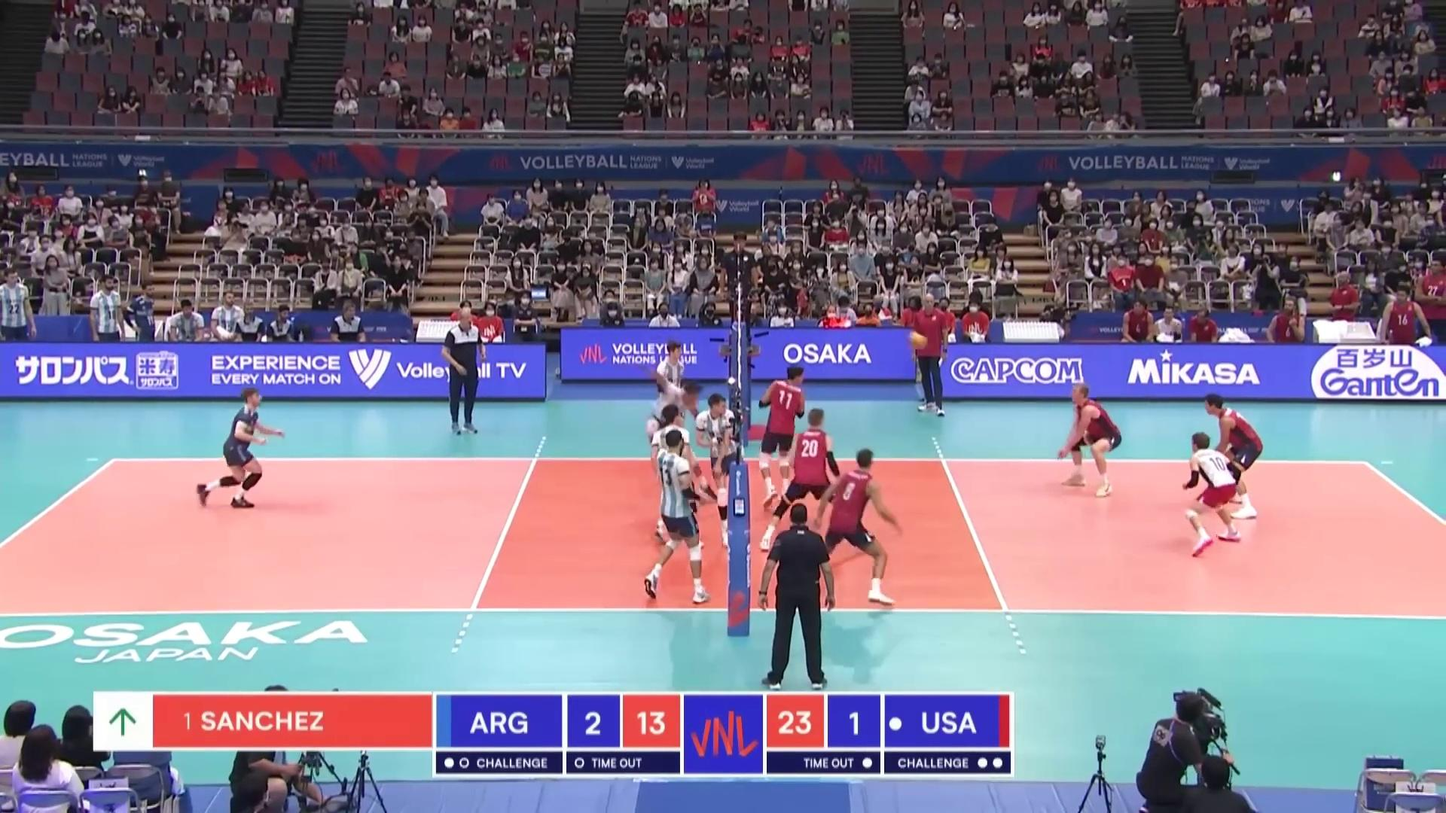player: (761, 410, 860, 553), (813, 449, 900, 606), (647, 432, 709, 602), (198, 389, 281, 509), (648, 373, 721, 501), (1200, 393, 1263, 522), (1178, 433, 1243, 556), (650, 405, 704, 549), (1056, 383, 1122, 498), (694, 393, 741, 549), (760, 366, 811, 504), (653, 341, 692, 473)
refree: (759, 500, 835, 689), (721, 232, 761, 345)
